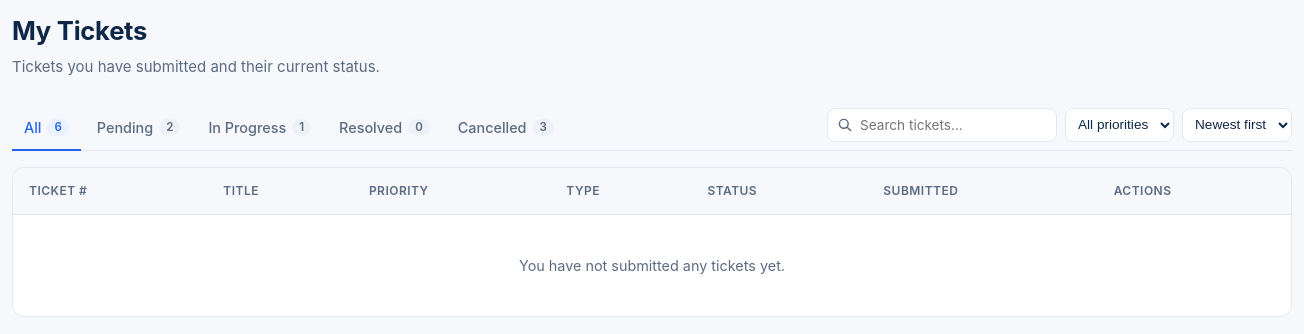
Test: MyTicketsComponent › requests the selected backend status from the first page without refetching counts
Click the tab with class "tab" showing "Pending 2".
click(139, 129)  # box [85,107,192,150]
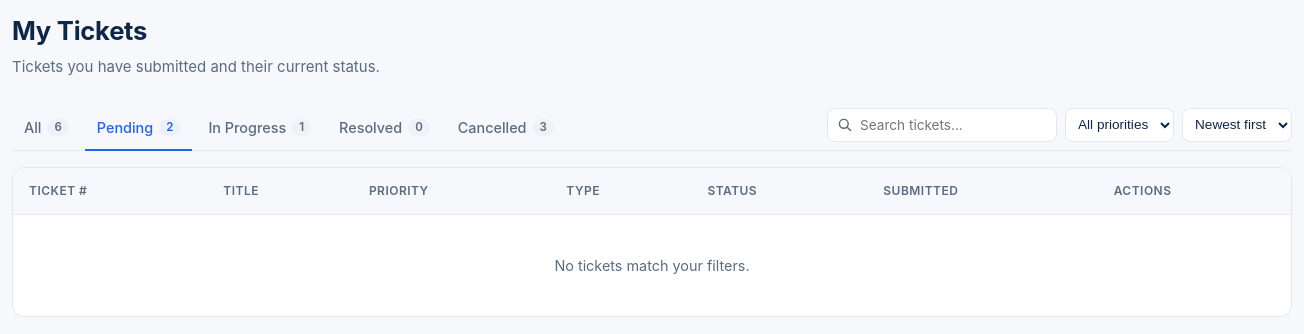
Check: the text "No tickets match your filters." is shown, box [13,214,1291,316]
